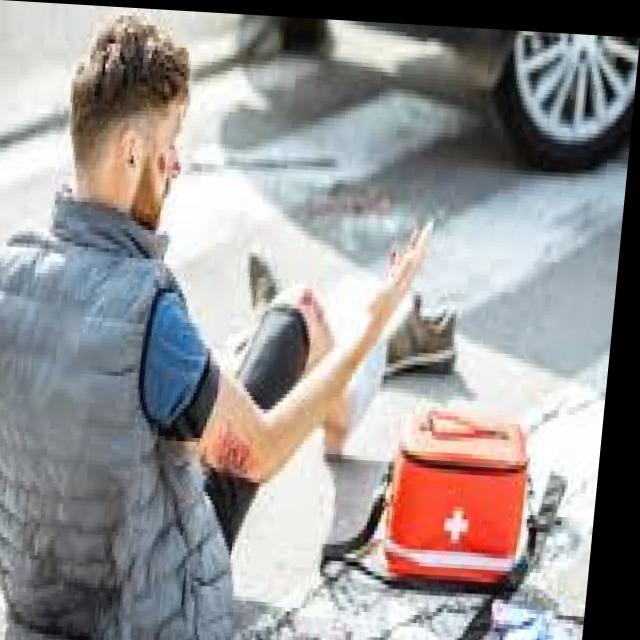injury: (56, 6, 200, 248), (199, 422, 258, 482)
